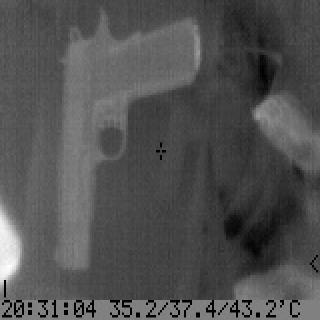Gun: (46, 2, 206, 280)
